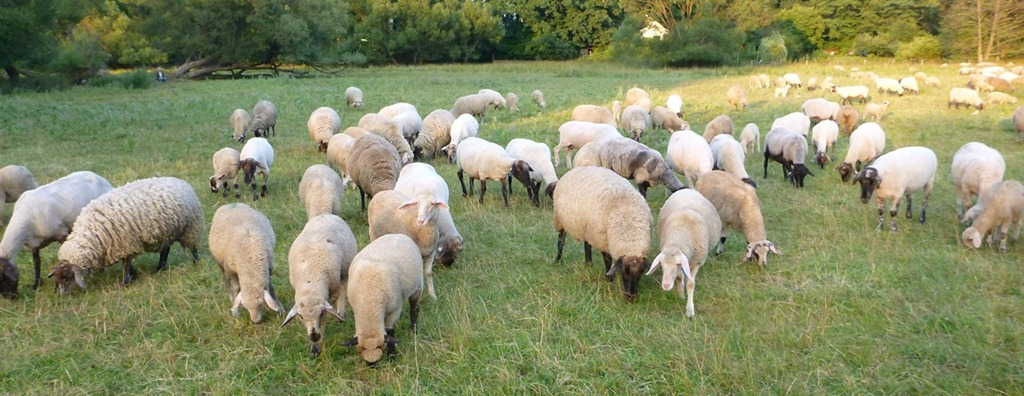sheep: (60, 178, 223, 304), (1, 157, 120, 276), (341, 224, 431, 367), (557, 165, 667, 281), (201, 205, 290, 338), (288, 221, 361, 367), (644, 195, 707, 324), (848, 153, 938, 234), (958, 138, 1018, 248), (703, 168, 765, 268), (669, 125, 735, 199), (391, 165, 444, 242), (455, 134, 512, 199), (801, 103, 845, 184), (755, 114, 808, 177), (503, 134, 561, 185), (845, 113, 888, 181), (400, 106, 448, 166), (190, 138, 233, 201), (247, 104, 290, 161), (235, 127, 268, 197), (718, 146, 770, 185), (458, 81, 496, 134), (440, 105, 477, 158), (310, 156, 340, 221), (354, 132, 387, 191), (558, 109, 600, 152), (304, 104, 338, 149), (478, 76, 514, 118), (803, 65, 843, 99), (705, 105, 740, 139), (938, 85, 988, 108), (218, 103, 244, 147), (833, 80, 873, 106), (525, 89, 557, 118), (621, 85, 653, 114), (341, 85, 365, 120), (665, 92, 687, 120), (774, 67, 792, 90), (873, 75, 894, 93), (897, 73, 914, 94)
